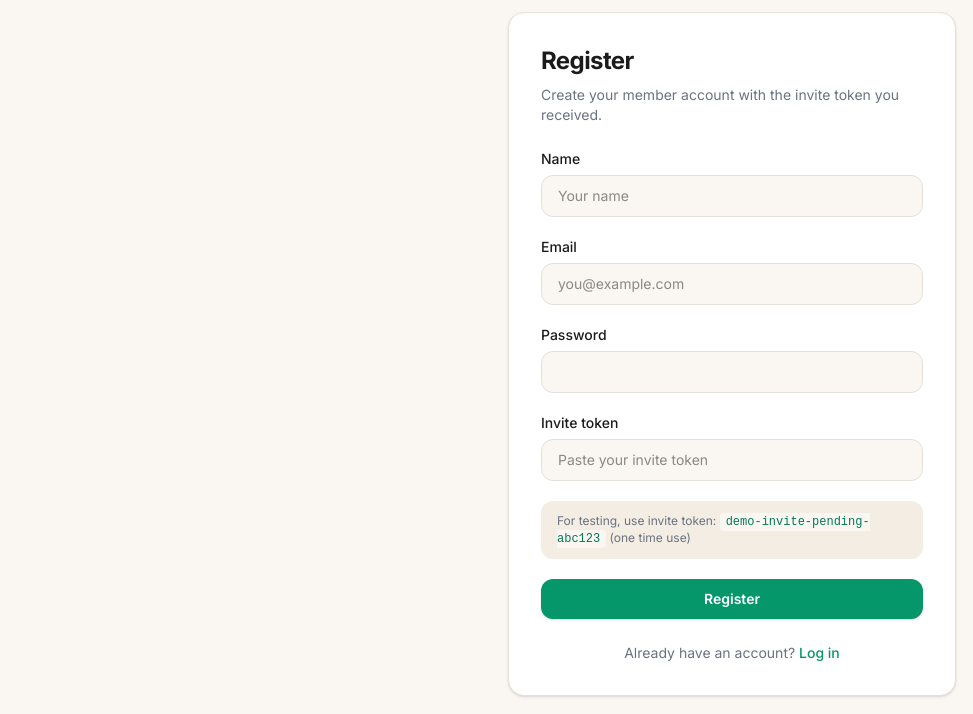
Test case: redirects to /login after a successful registration
Type "New Person" into the field labelled "Name".
click(732, 196); type("New Person")  # box [541,175,923,217]
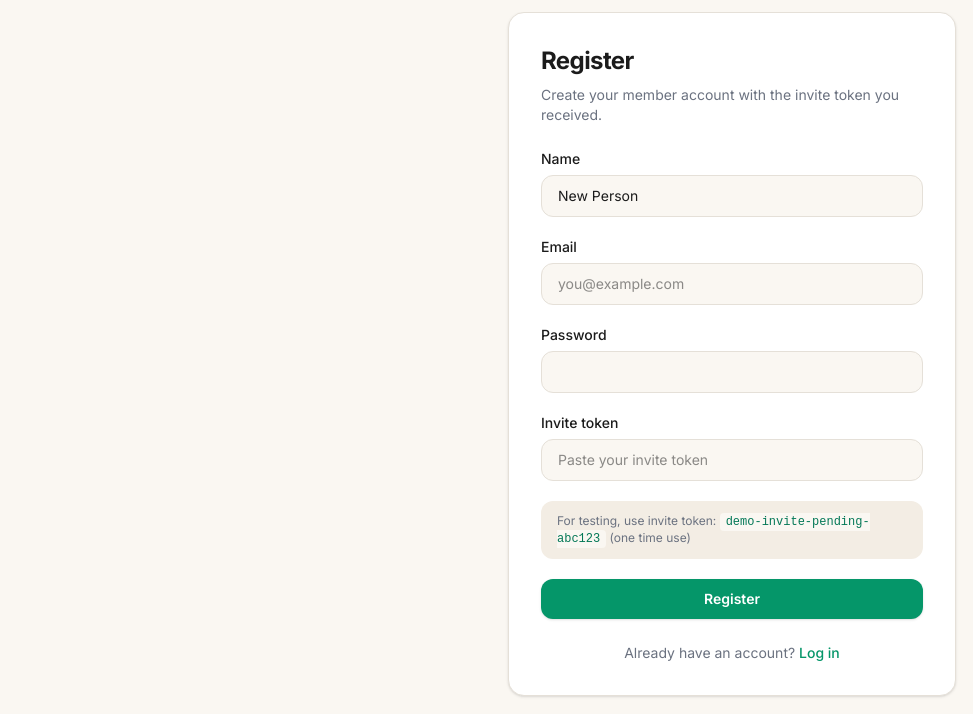
Type "new@example.com" into the field labelled "Email".
click(732, 284); type("new@example.com")  # box [541,263,923,305]
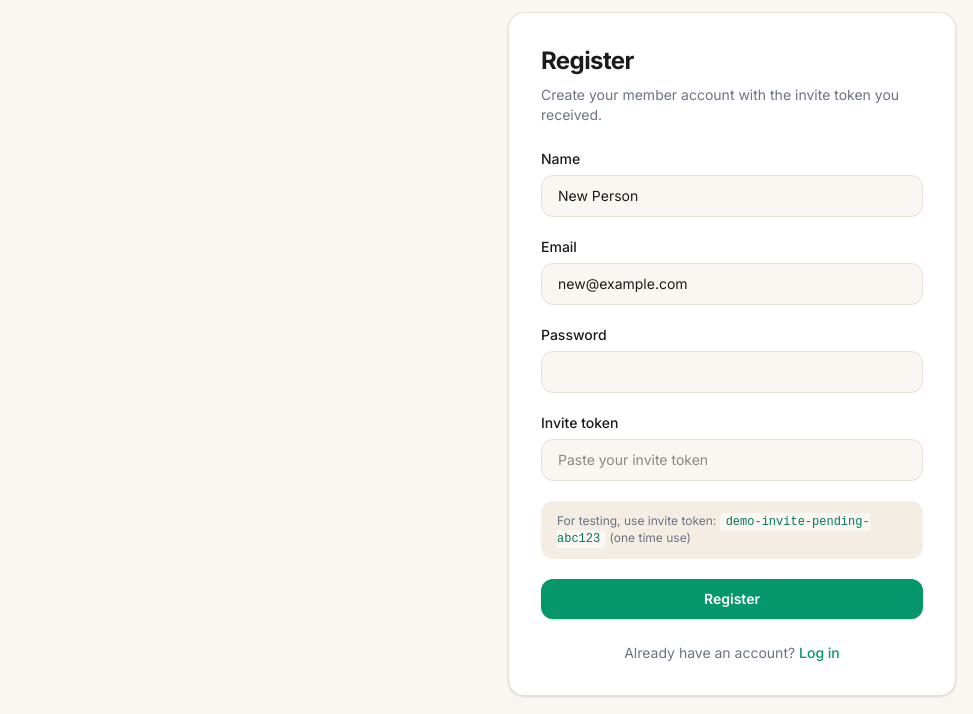
Type "password123" into the password field labelled "Password".
click(732, 372); type("password123")  # box [541,351,923,393]
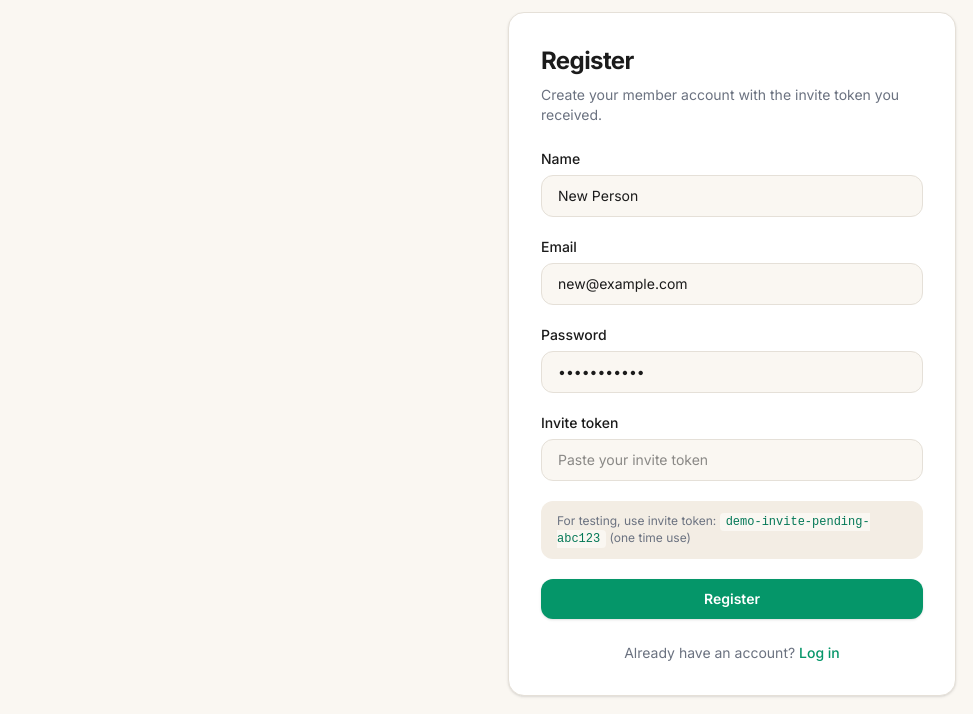
Type "tok-1" into the field labelled "Invite token".
click(732, 460); type("tok-1")  # box [541,439,923,481]
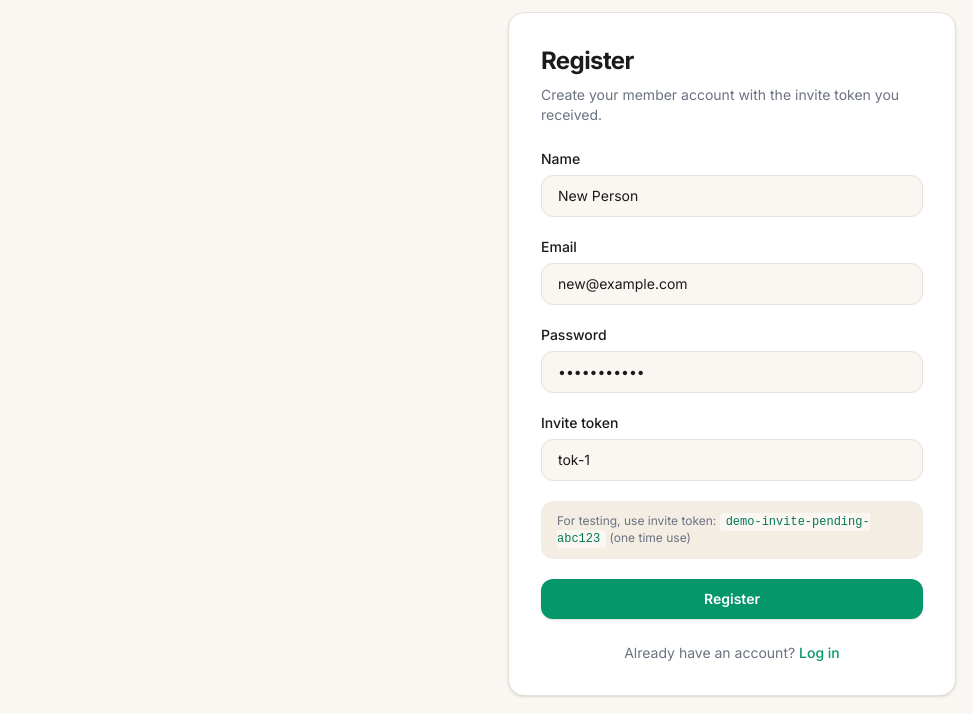
Click the button "Register".
click(732, 599)  # box [541,579,923,619]
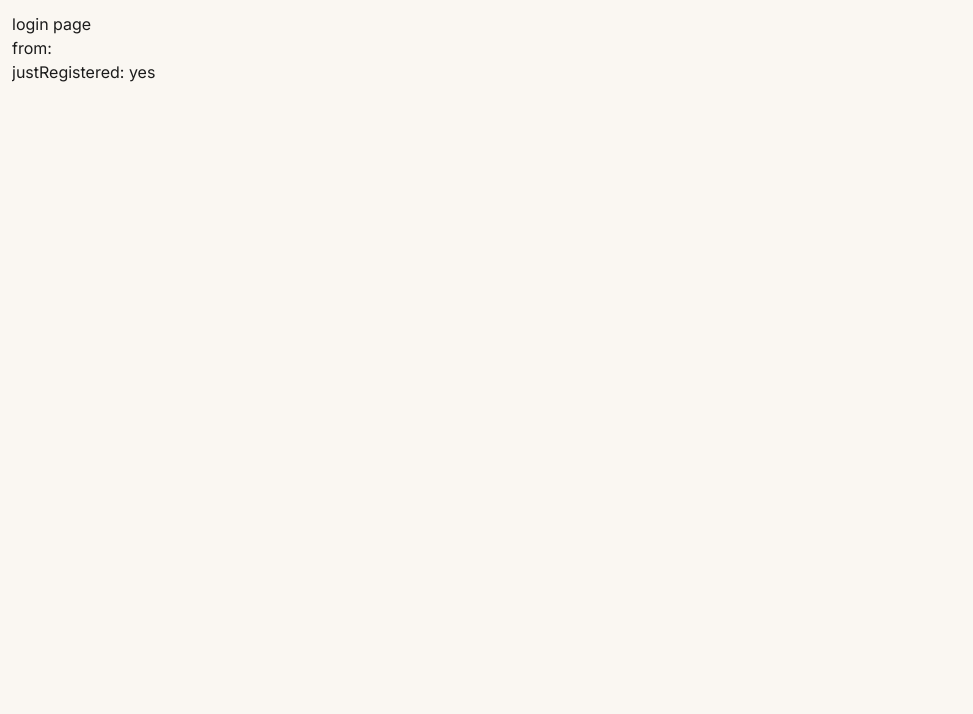
Expected: the text "login page" is shown, [12,14,91,34]
